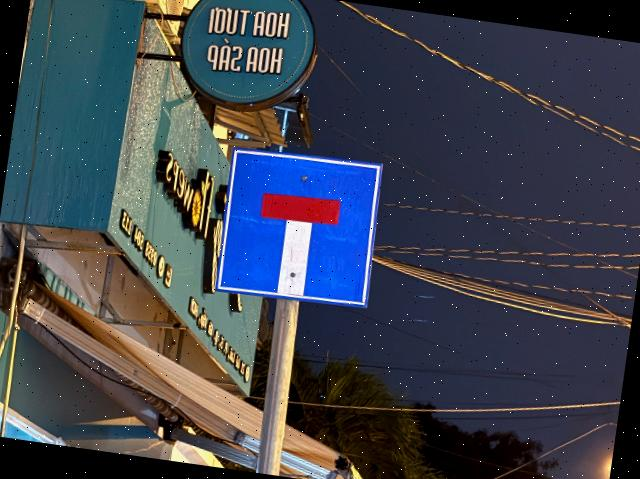duong-cut: (215, 143, 386, 311)
